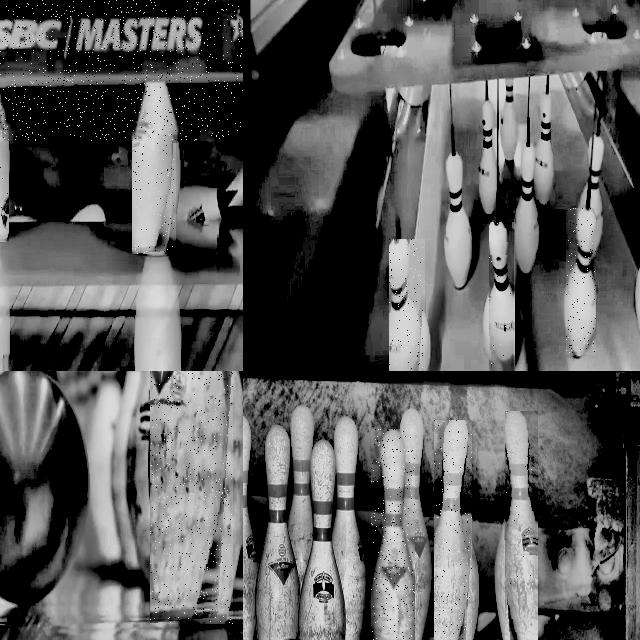bowling-pins: (150, 371, 233, 624), (255, 425, 300, 640), (299, 439, 346, 640), (371, 429, 415, 640), (128, 371, 167, 594), (434, 421, 472, 640), (332, 416, 367, 640), (401, 408, 432, 640), (505, 411, 536, 640), (133, 88, 174, 254), (112, 371, 143, 576), (288, 405, 313, 587), (566, 209, 596, 354), (390, 240, 423, 371), (444, 154, 472, 288), (490, 223, 513, 371), (243, 416, 258, 640), (514, 145, 540, 274), (579, 134, 604, 257), (534, 93, 556, 205), (478, 98, 497, 215), (501, 78, 518, 161), (0, 100, 9, 240)
